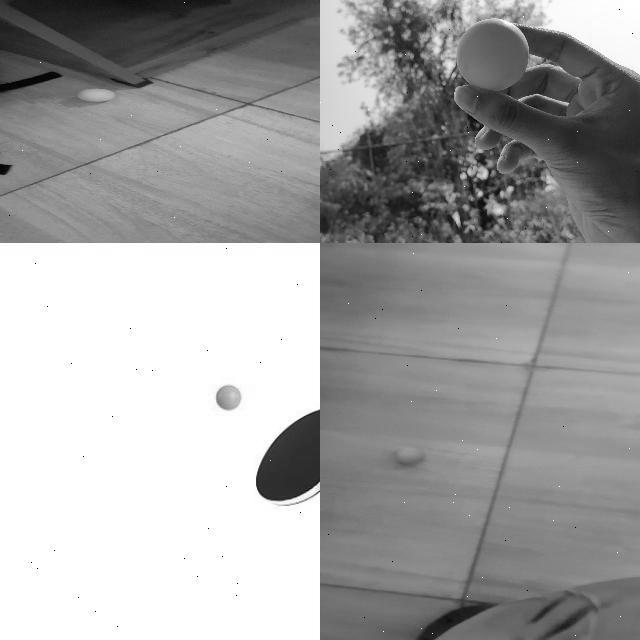ping-pong-ball: (456, 19, 530, 91), (215, 384, 239, 412), (396, 447, 424, 465), (78, 88, 112, 102)
